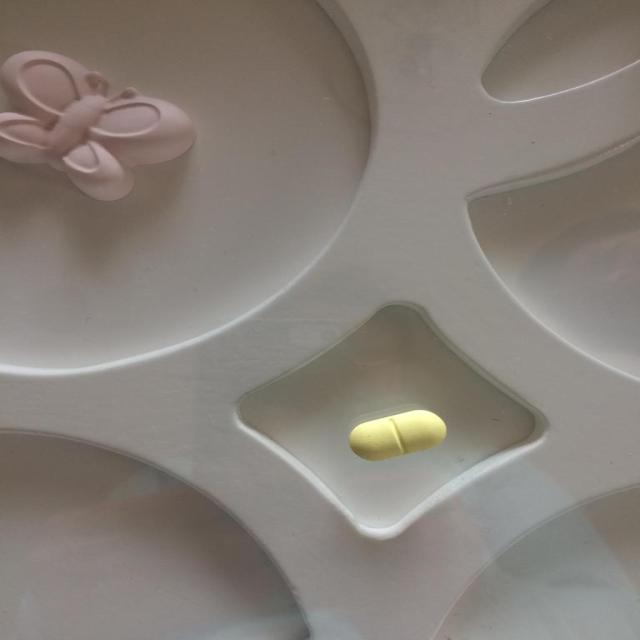pills: (337, 398, 458, 467)
